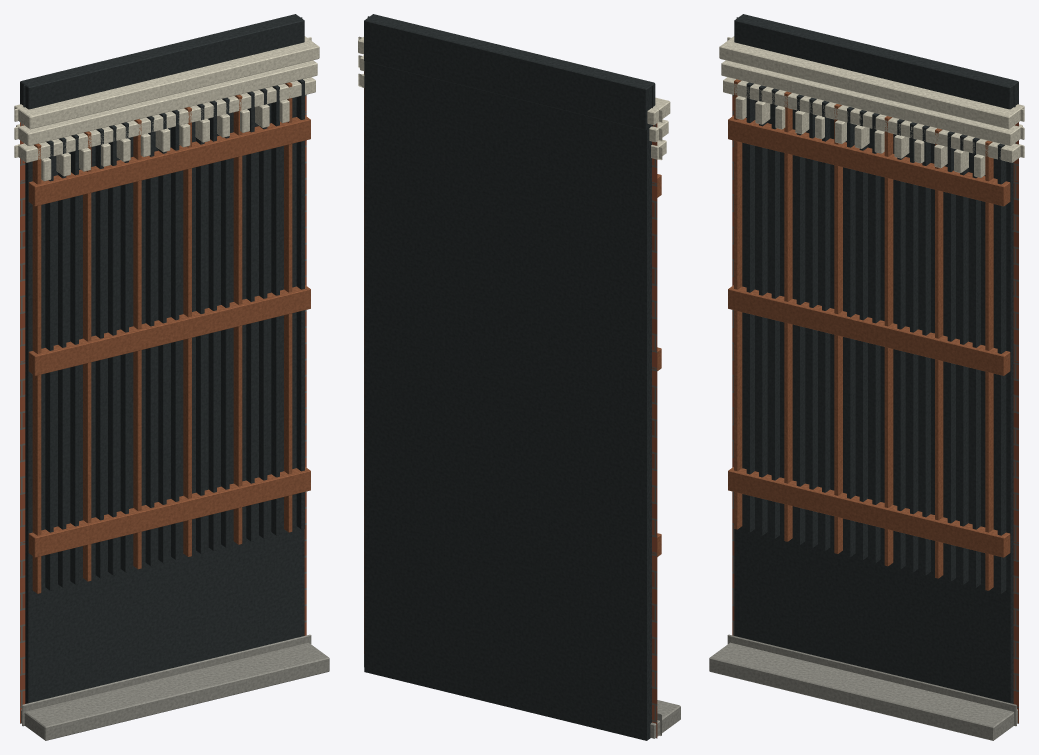
File: WHSE11_lod1.glb
The picture shows the model from 3 angles, left to right: view 1: azimuth 30°, elevation 25°; view 2: azimuth 150°, elevation 25°; view 3: azimuth 330°, elevation 25°; orthographic projection. The views are drawn at different scales.
Parts seen in each view (by area): view 1: WHSE11_FRONT_LOD1; view 2: WHSE11_FRONT_LOD1; view 3: WHSE11_FRONT_LOD1.
Boxes of the visible parts, x1,y1,x2,y2 form: WHSE11_FRONT_LOD1: [14, 14, 329, 740]; WHSE11_FRONT_LOD1: [358, 14, 680, 740]; WHSE11_FRONT_LOD1: [709, 14, 1024, 740].
Size of the model in its own units: 3.44 by 7.05 by 0.6.
Materials: 6 (6 with a texture image).
